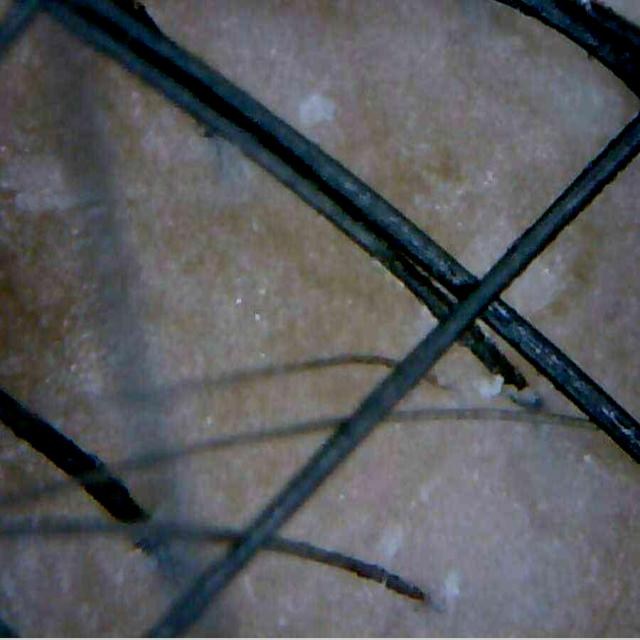d: (294, 92, 343, 128), (479, 376, 504, 398)
ds: (0, 154, 75, 213)
o: (229, 275, 275, 333)
